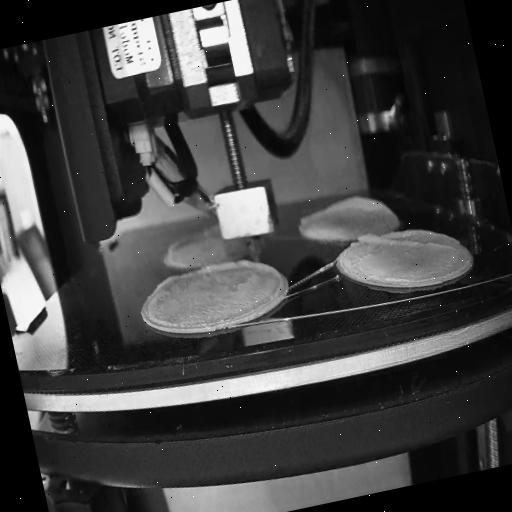over_extrusion: (198, 248, 286, 318), (294, 182, 398, 234), (356, 214, 456, 268), (162, 222, 224, 254), (148, 268, 184, 296)
